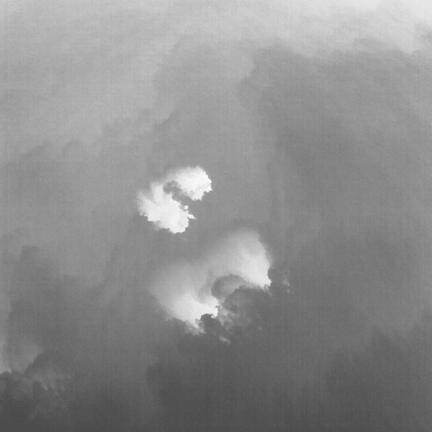flukeprints: (138, 183, 194, 233), (170, 167, 211, 199)
